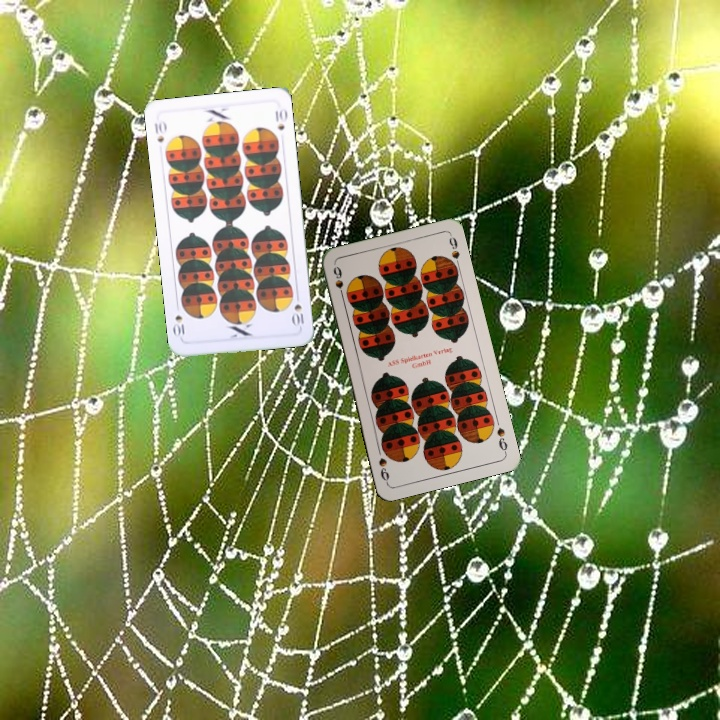S10: (151, 117, 169, 145), (289, 300, 306, 329)
S9: (329, 262, 347, 302), (493, 423, 510, 456)
